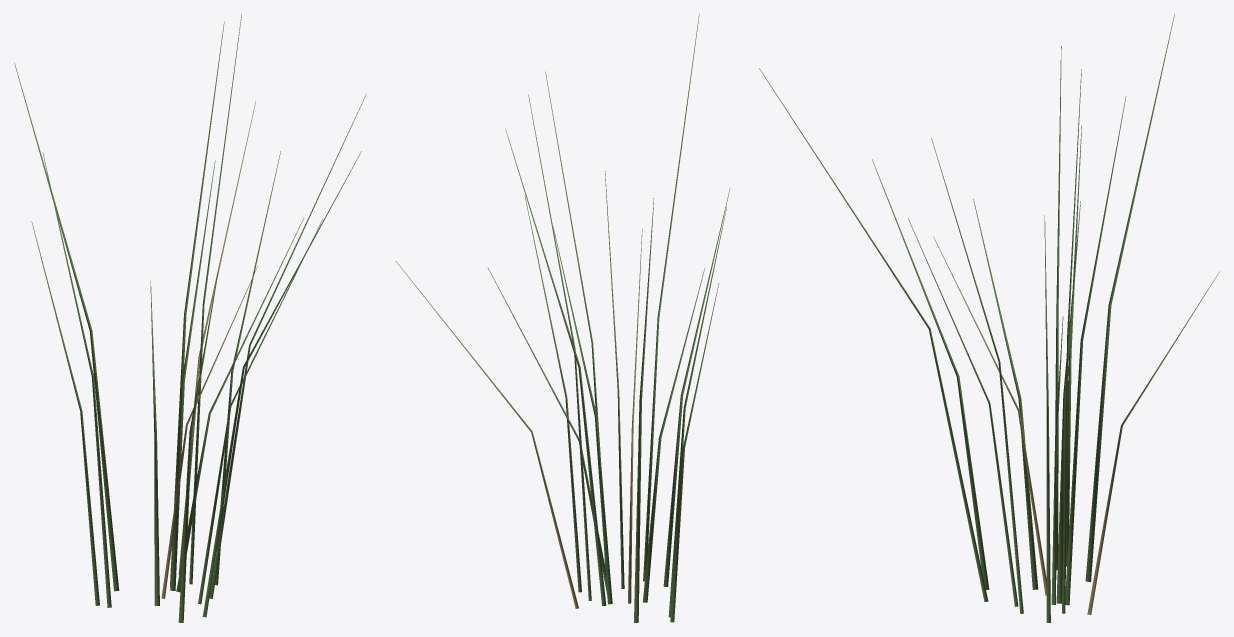
File: Woodland_Rush_Clump_01_LOD2.fbx
The picture shows the model from 3 angles, left to right: view 1: azimuth 30°, elevation 25°; view 2: azimuth 150°, elevation 25°; view 3: azimuth 270°, elevation 25°; orthographic projection. The views are drawn at different scales.
Parts seen in each view (by area): view 1: Woodland_Rush_Clump_01_LOD2_Foliage; view 2: Woodland_Rush_Clump_01_LOD2_Foliage; view 3: Woodland_Rush_Clump_01_LOD2_Foliage.
Boxes of the visible parts, x1,y1,x2,y2 form: Woodland_Rush_Clump_01_LOD2_Foliage: (14,14,366,622); Woodland_Rush_Clump_01_LOD2_Foliage: (396,14,730,622); Woodland_Rush_Clump_01_LOD2_Foliage: (759,14,1219,622).
Bounding box in the file's own units: 46.5 × 84.03 × 61.03.
